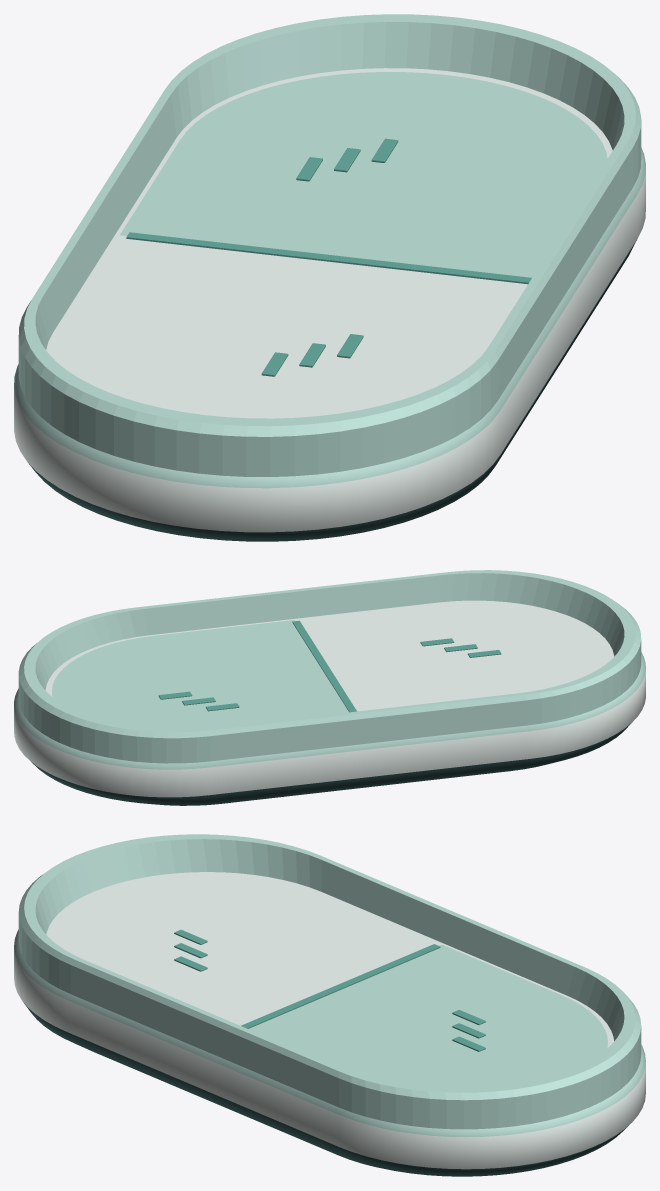
Rendered from stone-quarantine-rotating.glb.
3 renders of one model, top to bottom at view 1: azimuth 30°, elevation 25°; view 2: azimuth 150°, elevation 25°; view 3: azimuth 270°, elevation 25°, orthographic. The views are drawn at different scales.
Visible parts, largest first — view 1: platform_mesh; view 2: platform_mesh; view 3: platform_mesh.
Boxes of the visible parts, x1,y1,x2,y2 form: platform_mesh: [14, 14, 645, 541]; platform_mesh: [14, 570, 645, 805]; platform_mesh: [14, 834, 645, 1176].
Size of the model in its own units: 5 by 0.8 by 5.
